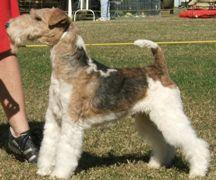wire-haired_fox_terrier: (3, 6, 214, 179)
